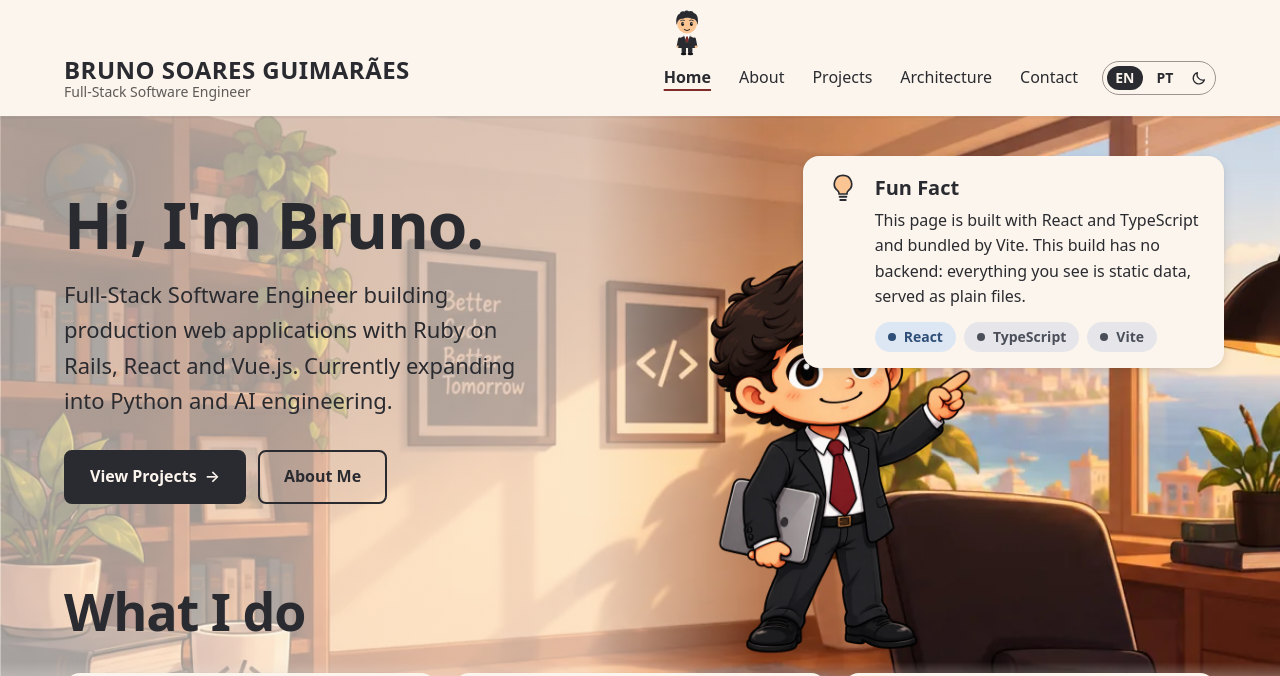
page transitions › crossfades the Home buttons
expect the heading "Hi, I'm Bruno." is shown: met, box [64, 188, 555, 261]
Click the link "View Projects →" at (155, 477), box [64, 450, 246, 504]
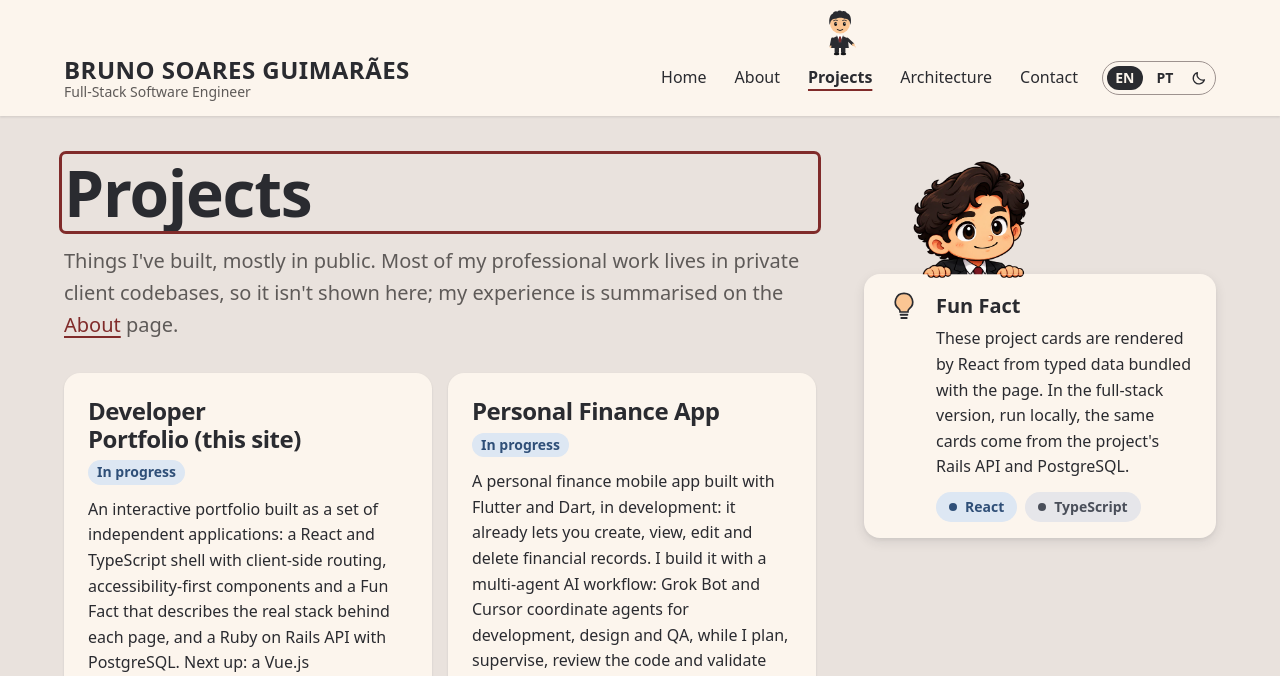
expect the heading "Projects" is shown: met, box [64, 149, 311, 236]
